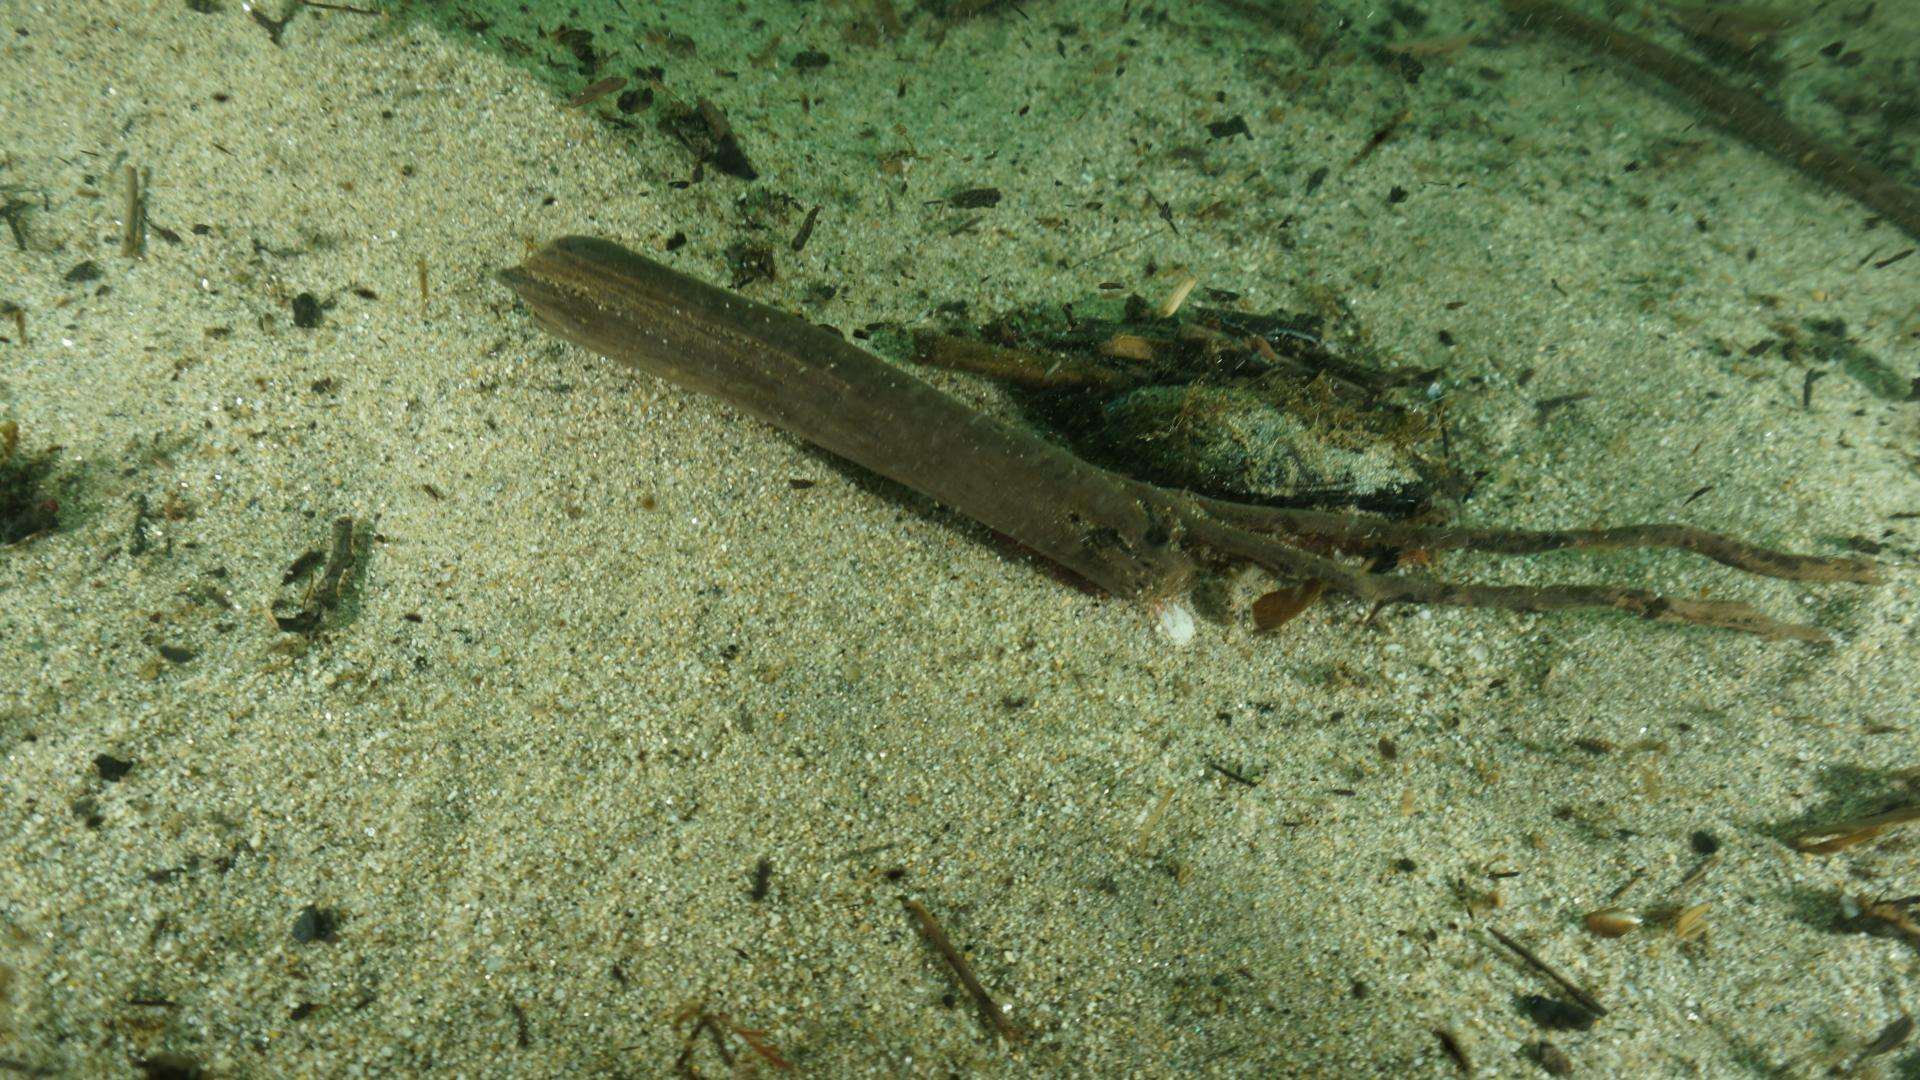wood: (493, 231, 1891, 644)
